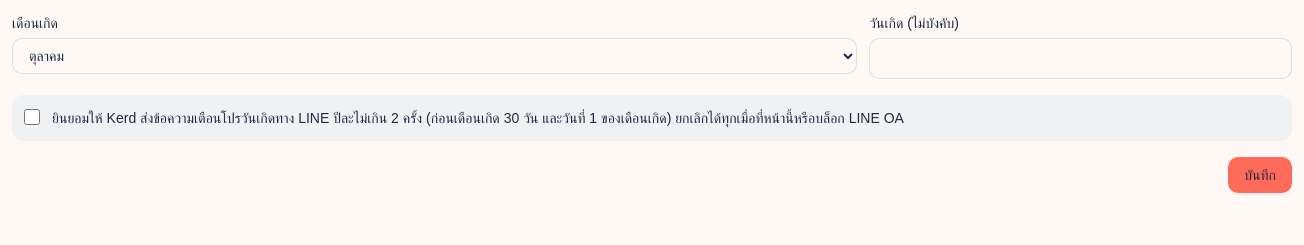
Test: ReminderForm › ส่งเดือน วัน และความยินยอม แล้วแจ้งว่าบันทึกแล้ว
Type "9" into the number field labelled "วันเกิด (ไม่บังคับ)" at (1081, 59), box [869,38,1292,79]
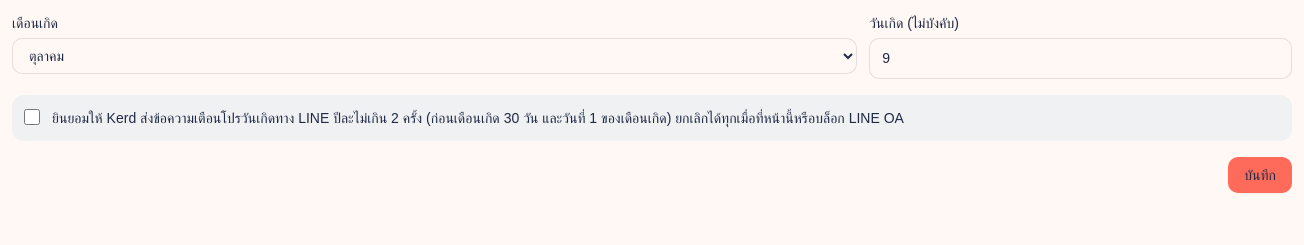
Click the checkbox at (32, 117), box [24,109,40,125]
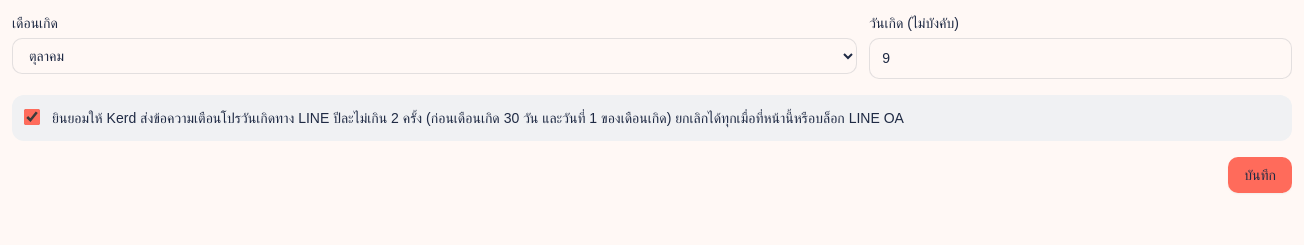
Click the button "บันทึก" at (1260, 175), box [1228,157,1292,193]
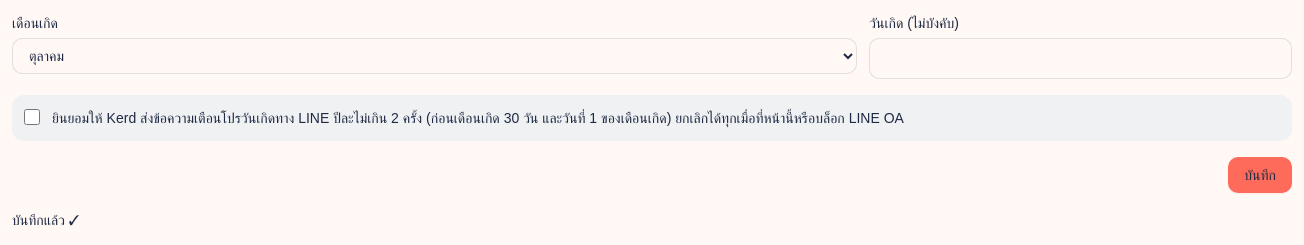
Result: the message shows "บันทึกแล้ว" at [12,212,79,228]
